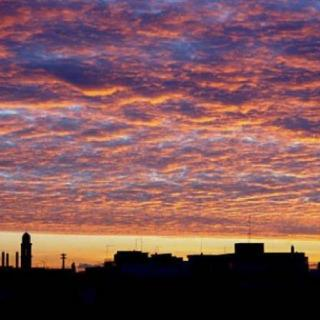Altocumulus: (0, 0, 320, 248)
